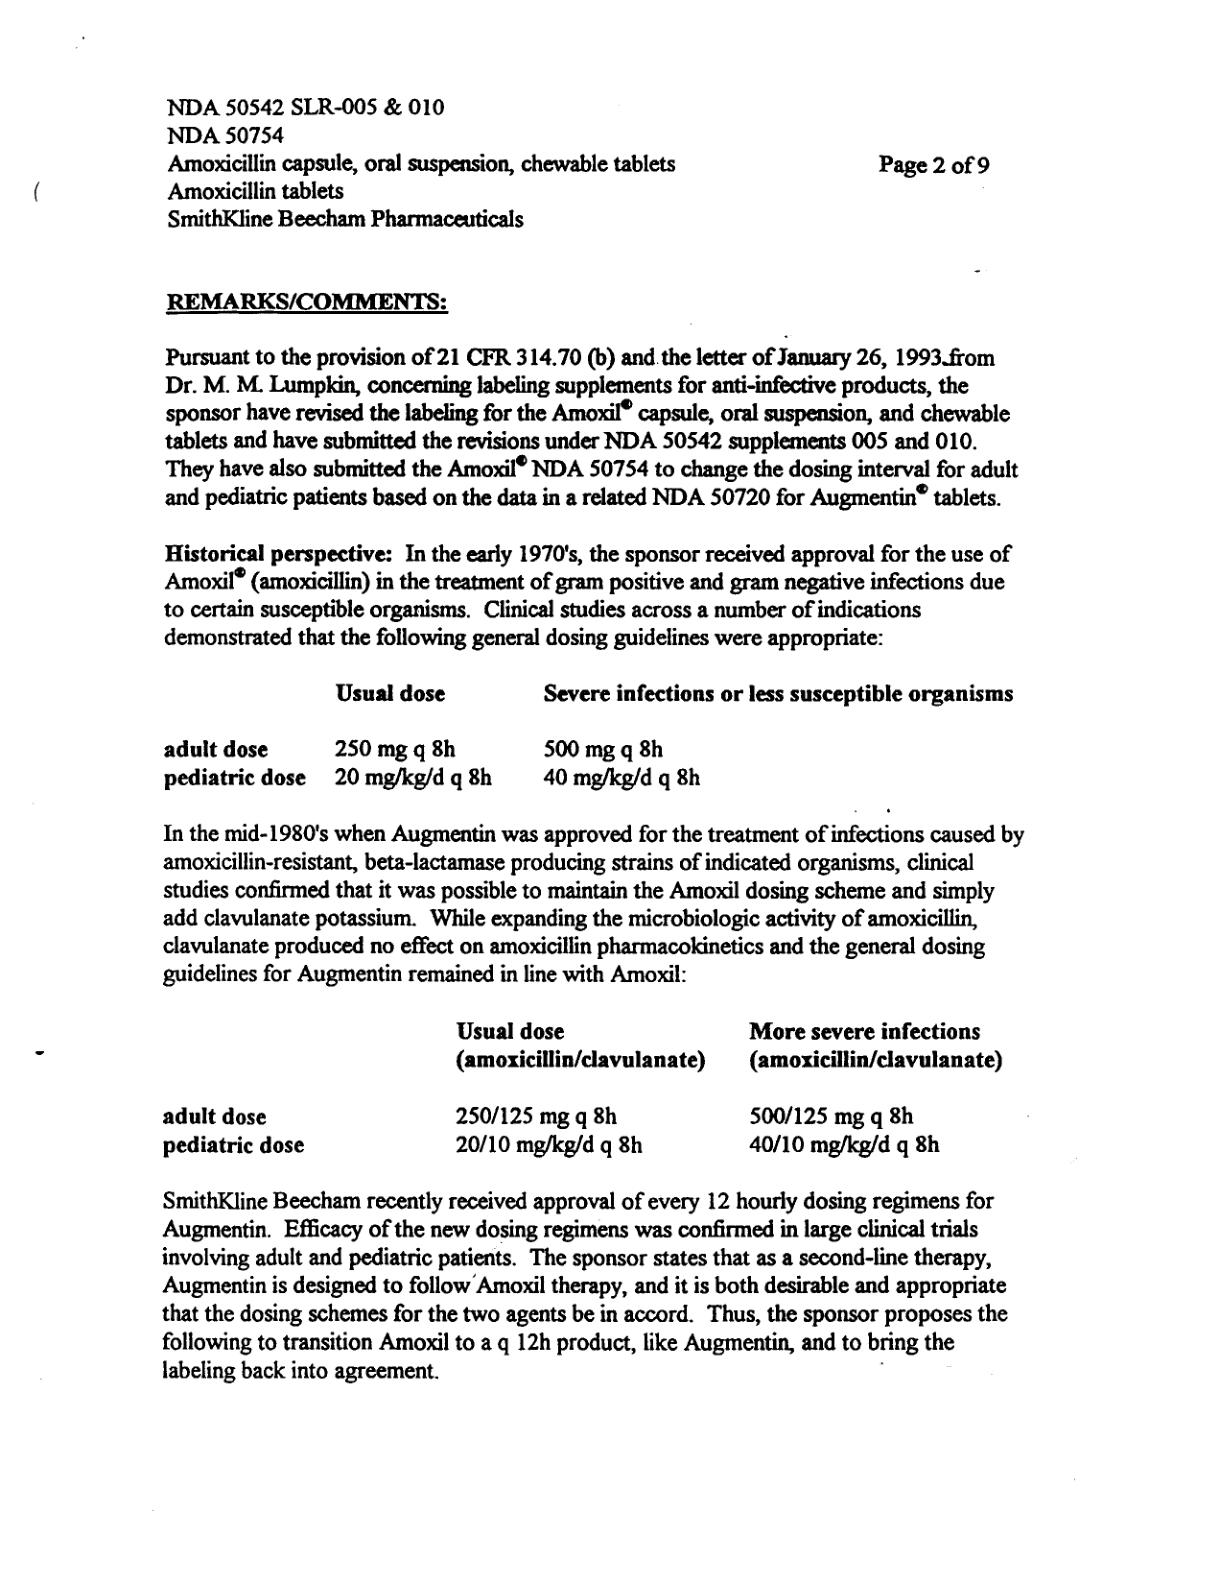nolines: (160, 1020, 1004, 1160), (160, 683, 1019, 795)
